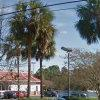Palm tree: (7, 2, 52, 94)
